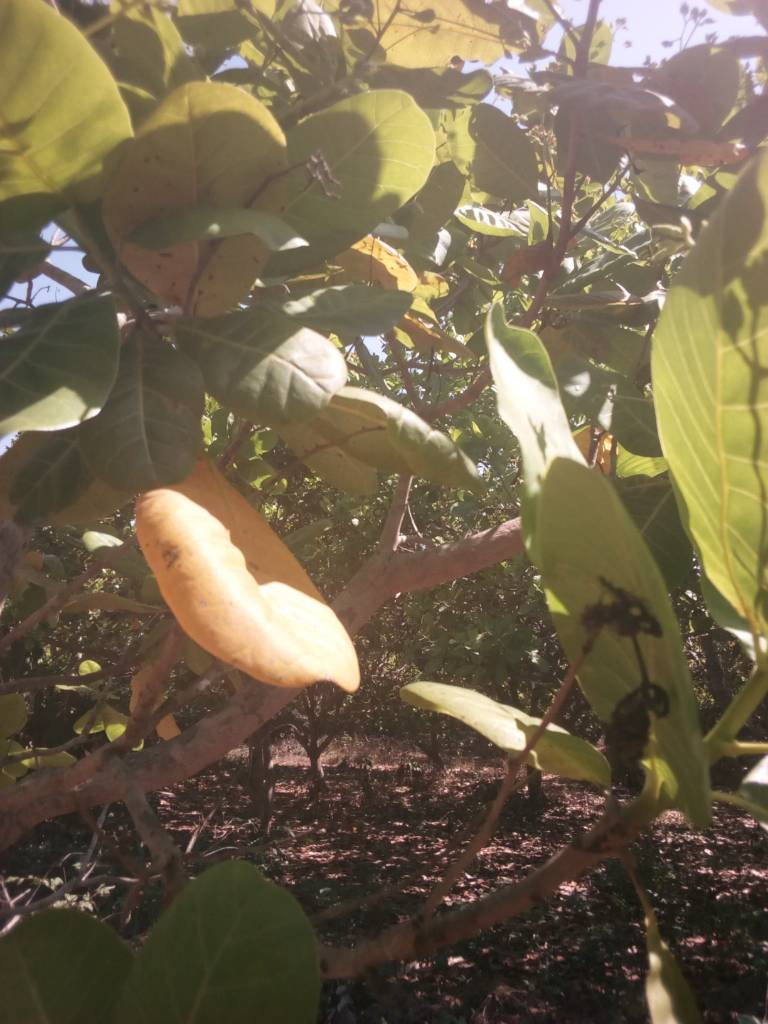Dessèchement des bourgeons: (583, 582, 669, 794)
